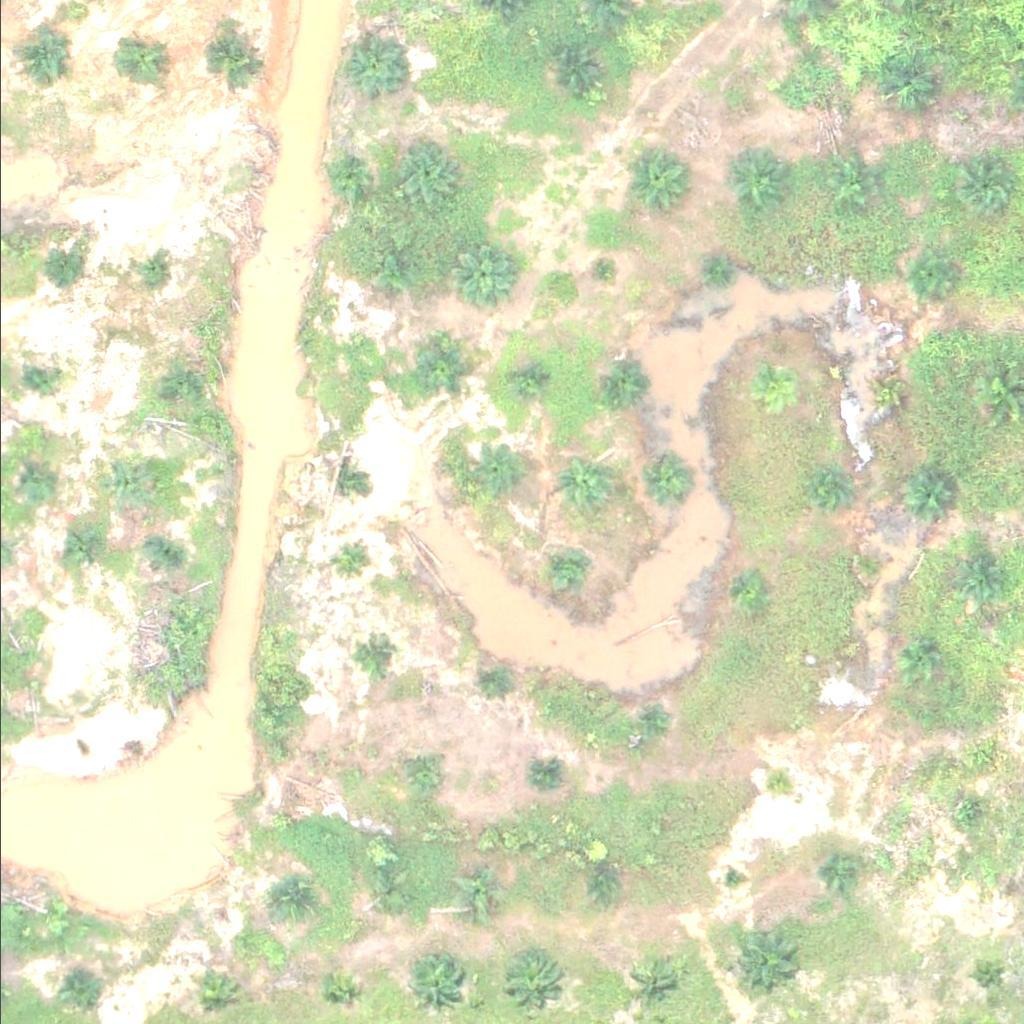Kelapa_Sawit: (723, 144, 799, 219), (728, 924, 791, 987), (954, 157, 1017, 220), (875, 52, 938, 115), (343, 37, 406, 99), (625, 149, 687, 212), (458, 241, 520, 304), (401, 951, 464, 1013), (398, 147, 461, 209), (407, 342, 469, 404), (111, 32, 162, 82), (205, 32, 256, 82), (897, 465, 948, 515), (740, 360, 791, 410), (639, 455, 690, 505), (510, 954, 561, 1004), (186, 967, 237, 1017), (453, 870, 504, 920), (868, 373, 919, 423), (16, 35, 66, 85), (556, 45, 606, 95), (818, 160, 868, 210), (601, 353, 651, 403), (556, 460, 606, 510), (470, 446, 520, 496), (953, 549, 1003, 599), (327, 153, 377, 203), (364, 241, 414, 291), (58, 967, 96, 1005), (581, 860, 619, 898), (700, 254, 738, 292), (902, 643, 940, 681), (946, 795, 984, 833), (965, 957, 1003, 995), (756, 763, 794, 801), (511, 365, 549, 403), (136, 254, 174, 292), (22, 366, 60, 404), (67, 534, 105, 572), (142, 533, 180, 571), (914, 258, 951, 296), (544, 553, 582, 590), (315, 970, 352, 1008), (637, 966, 675, 1003), (527, 760, 564, 798), (351, 636, 389, 673), (369, 877, 406, 915), (779, 66, 817, 103), (817, 847, 855, 884), (856, 544, 894, 581), (586, 255, 624, 292), (327, 540, 365, 577), (42, 244, 79, 282), (142, 377, 180, 414), (105, 462, 143, 499), (13, 467, 51, 504), (807, 470, 844, 507), (271, 878, 308, 915), (479, 658, 516, 695), (401, 755, 438, 792), (734, 575, 771, 612), (636, 706, 673, 743), (333, 463, 359, 488), (720, 866, 745, 891)
